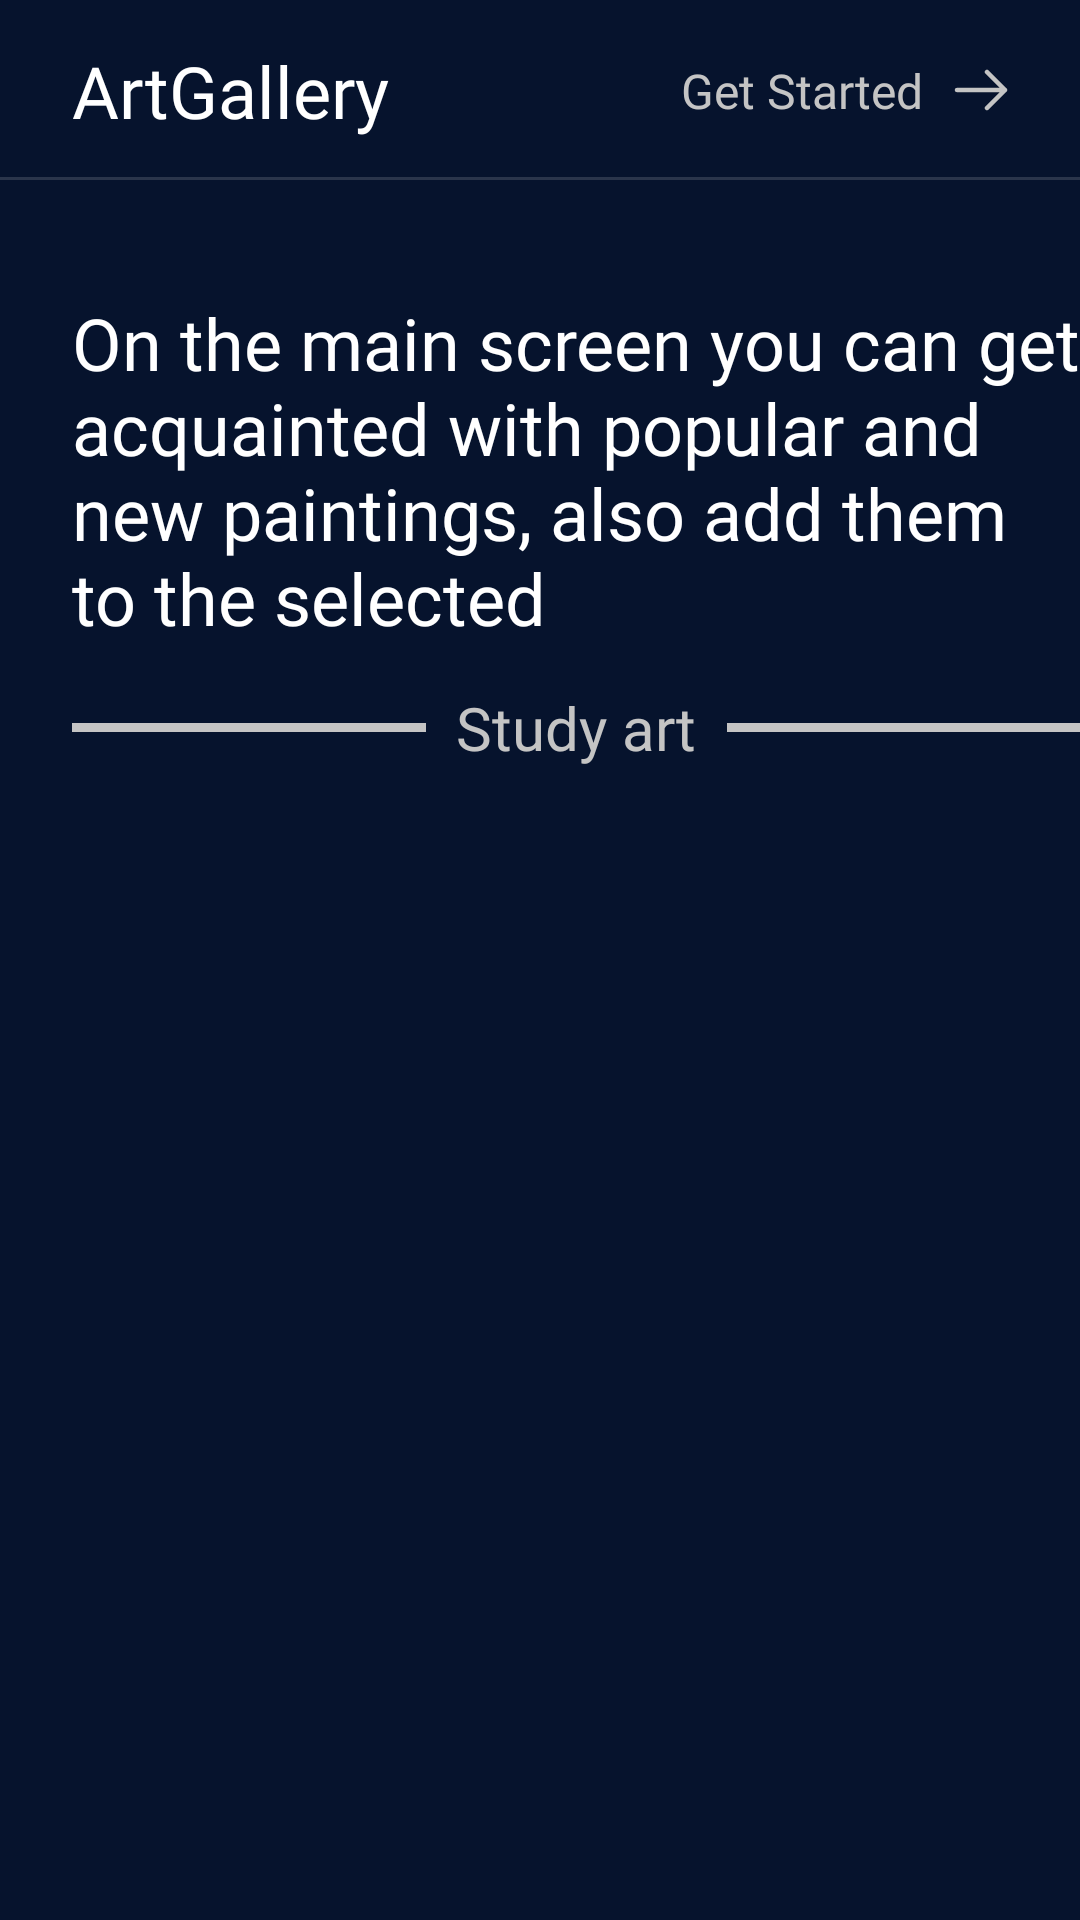

Where icons sit on this 1080 × 1920 app screen, as region(x1, y1, x2, y2):
next: region(955, 69, 1008, 111)
